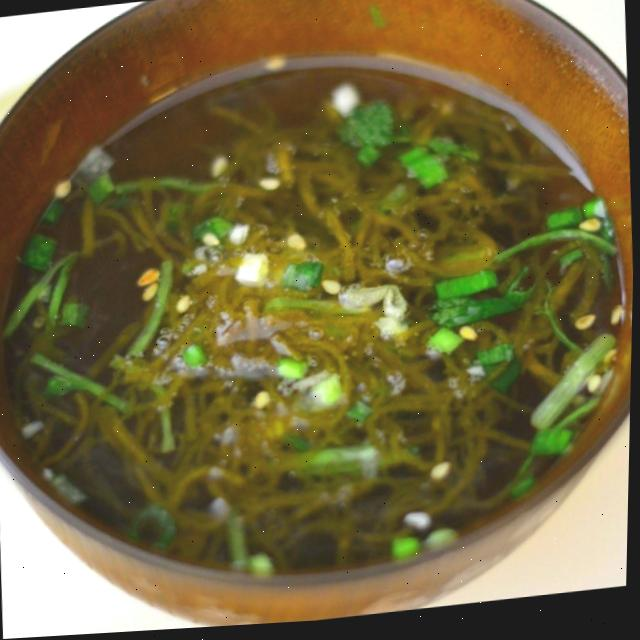蔬菜料理: (0, 9, 639, 619)
